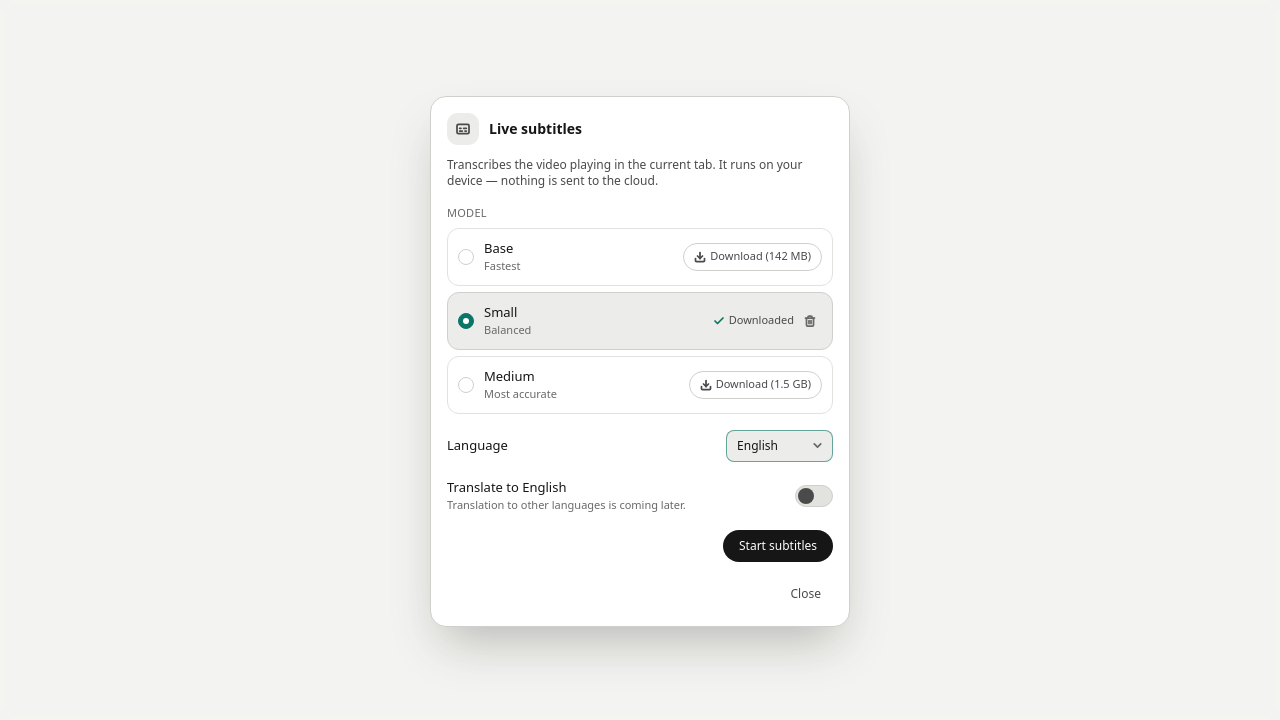
Test: Subtitles dialog › downloads a model and shows its progress
The width and height of the screenshot is (1280, 720).
Click the button "Download (142 MB)": (753, 256) [683, 242, 822, 270]
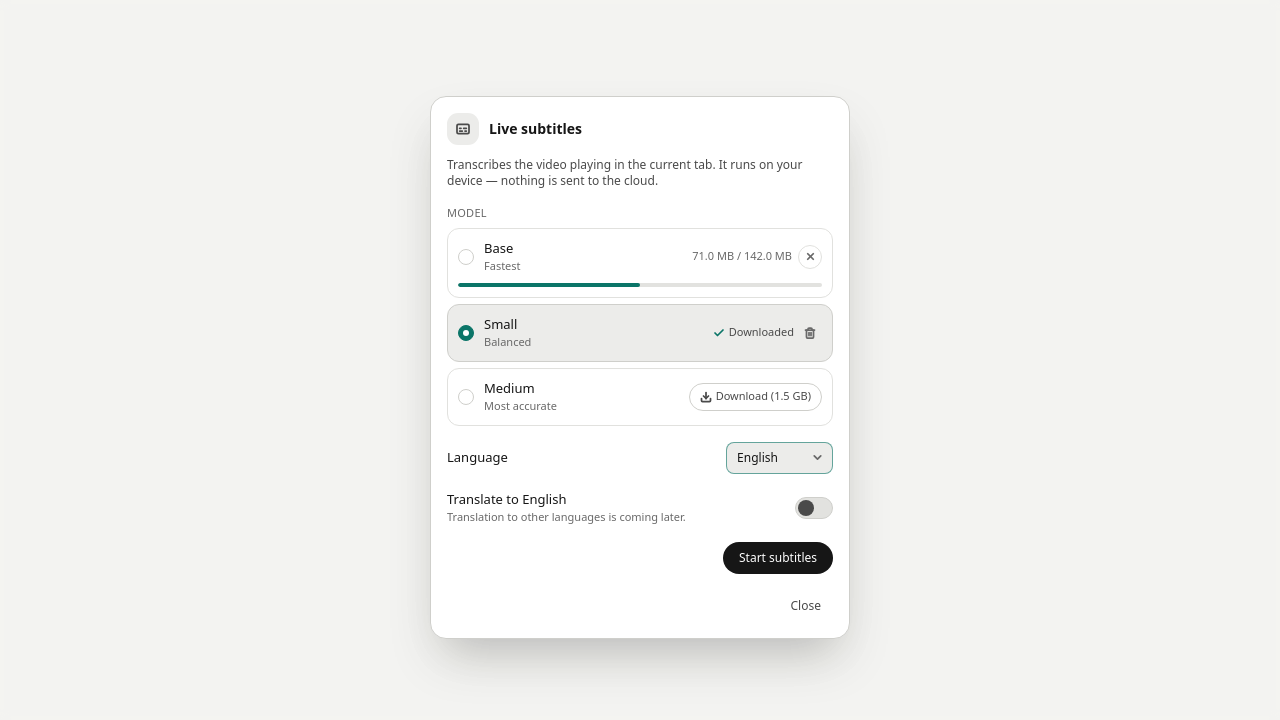
Check: the text "71.0 MB / 142.0 MB" is shown, box [692, 248, 792, 265]
Check: the progress indicator named "Downloading Base" is shown, box [458, 282, 822, 286]
